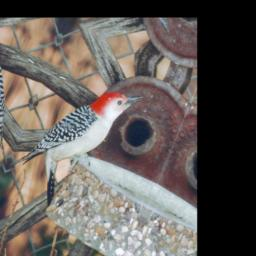Woodpecker: (1, 51, 146, 234)
